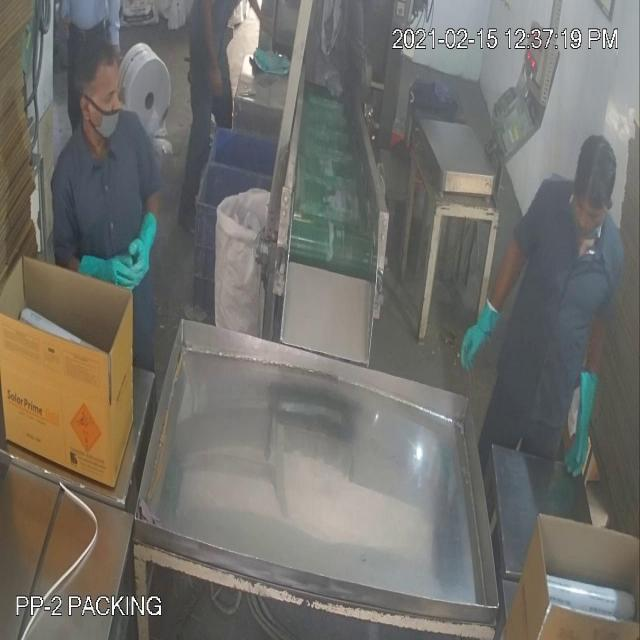Gloves: (33, 50, 582, 417)
